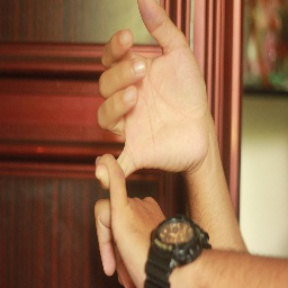S: (89, 2, 214, 280)
